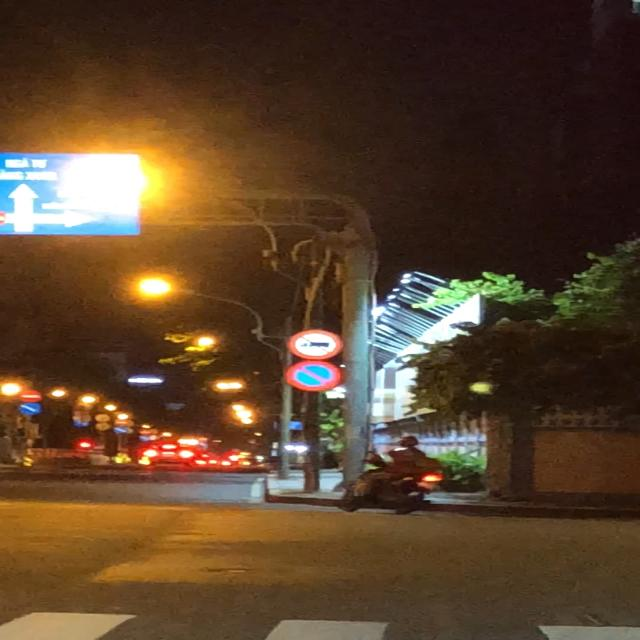Bien bao cam do xe: (283, 358, 351, 394)
Bien bao cam xe so-mi ro-mooc: (282, 325, 346, 361)
